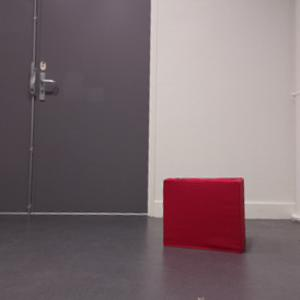medium: (159, 173, 250, 258)
